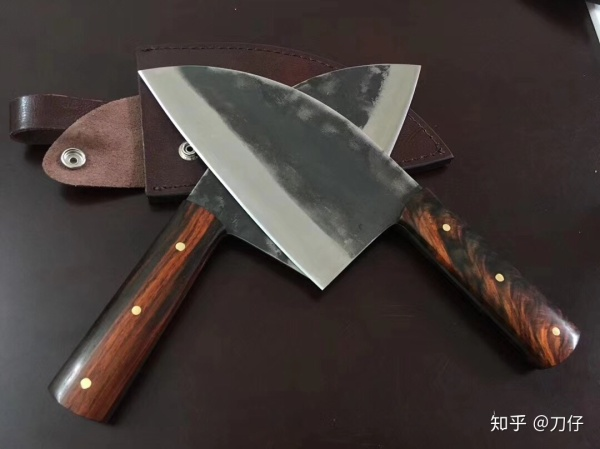knief: (144, 59, 574, 359)
